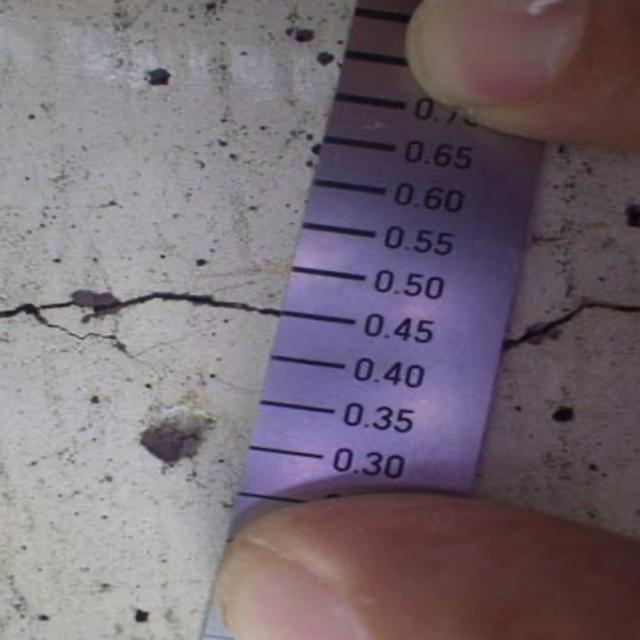crack: (3, 276, 278, 333), (506, 272, 637, 367)
